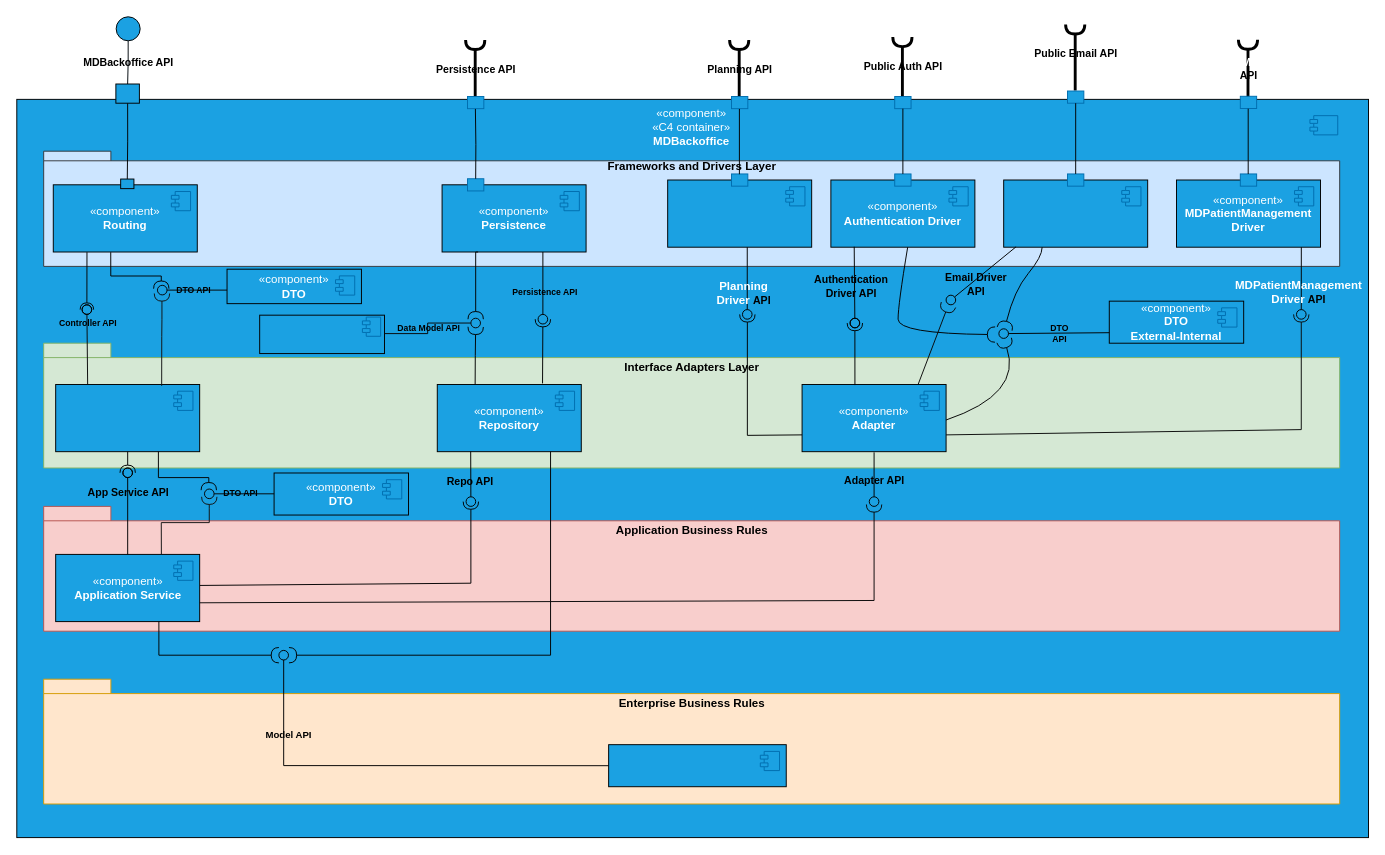
Image size: 1385x855. Some labels were removed from this diagram. The shapes that lost their labels are listed below. From the top down, each one's centre as x and y in pixels, then its label:
the point at 739,213: «component» Planning Driver
the point at 1075,213: «component» Email Driver
the point at 321,334: «component» Data Model
the point at 127,418: «component» Controller
the point at 697,765: «component» Domain Model (DDD)
